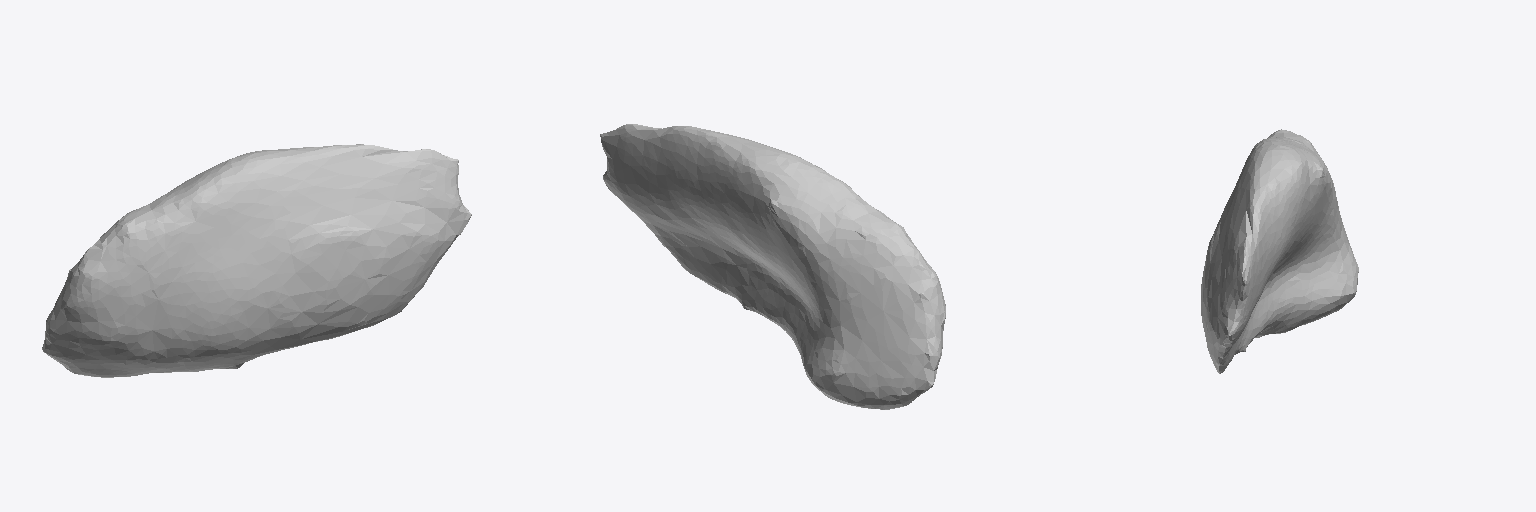
Rendered from L-Putamen.obj.
3 renders of one model, left to right at view 1: azimuth 30°, elevation 25°; view 2: azimuth 150°, elevation 25°; view 3: azimuth 270°, elevation 25°, orthographic.
Parts seen in each view (by area): view 1: L-putamen_putamen; view 2: L-putamen_putamen; view 3: L-putamen_putamen.
Boxes of the visible parts, box(x1,y1,x2,y2) form: L-putamen_putamen: box(42, 144, 471, 377); L-putamen_putamen: box(600, 124, 945, 409); L-putamen_putamen: box(1201, 129, 1358, 373).
Bounding box in the file's own units: 64.84 × 33.27 × 23.18.